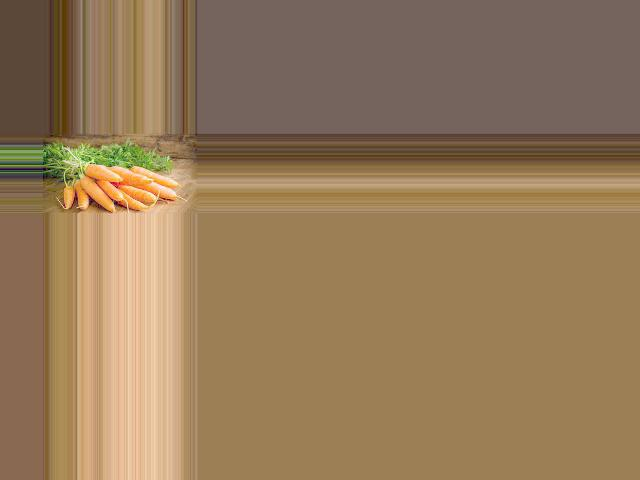carrot: (60, 182, 74, 208)
